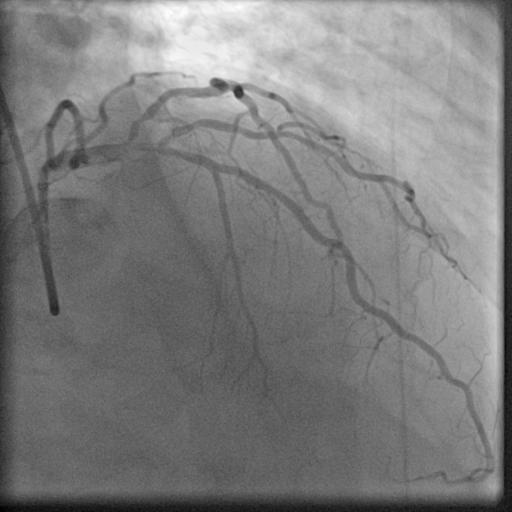Stenosis: (123, 109, 152, 133)
